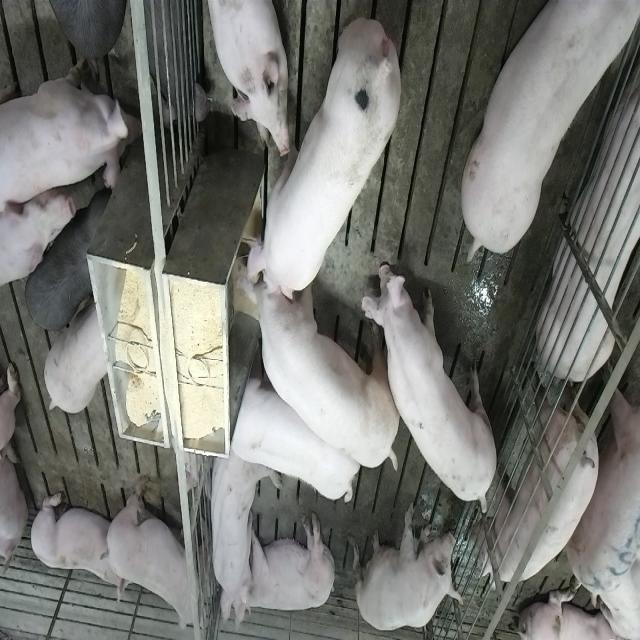Feeding: (241, 16, 404, 304), (235, 254, 403, 473)
Lateral_lying: (238, 510, 338, 626)
Sitting: (354, 500, 464, 632), (205, 444, 268, 626)
Standing: (464, 0, 640, 257), (367, 261, 501, 521), (468, 374, 600, 586), (1, 48, 138, 212), (228, 362, 362, 508), (566, 358, 640, 594), (101, 472, 202, 634), (24, 189, 110, 335), (44, 298, 110, 414), (40, 2, 124, 68)
Sternal_lying: (540, 34, 640, 378), (205, 0, 291, 156), (28, 485, 122, 601)
